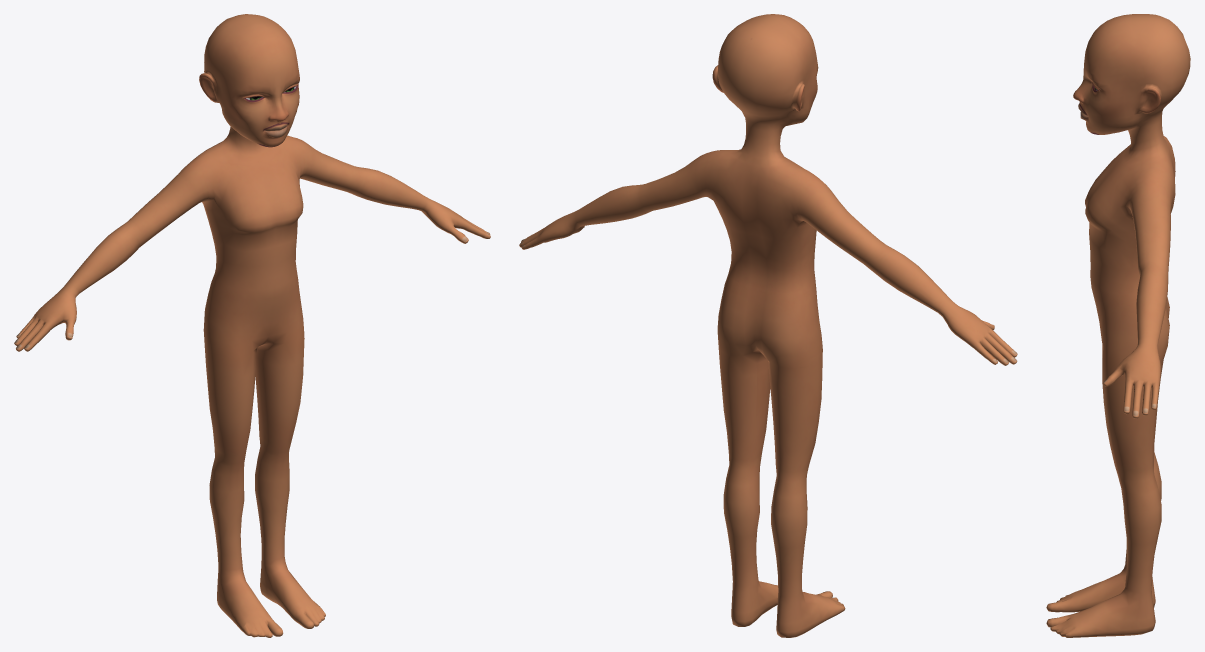
The model's file is frame_0076.glb.
The picture shows the model from 3 angles, left to right: view 1: azimuth 30°, elevation 25°; view 2: azimuth 150°, elevation 25°; view 3: azimuth 270°, elevation 25°; orthographic projection. The views are drawn at different scales.
Visible parts, largest first — view 1: frame_0076_head_geo; view 2: frame_0076_head_geo; view 3: frame_0076_head_geo.
Part boxes in pixels (x1=…): frame_0076_head_geo: x1=14, y1=14, x2=490, y2=637; frame_0076_head_geo: x1=519, y1=14, x2=1017, y2=637; frame_0076_head_geo: x1=1046, y1=14, x2=1190, y2=637.
Bounding box in the file's own units: 1.28 × 1.5 × 0.3253.
3 materials, 3 textured.
